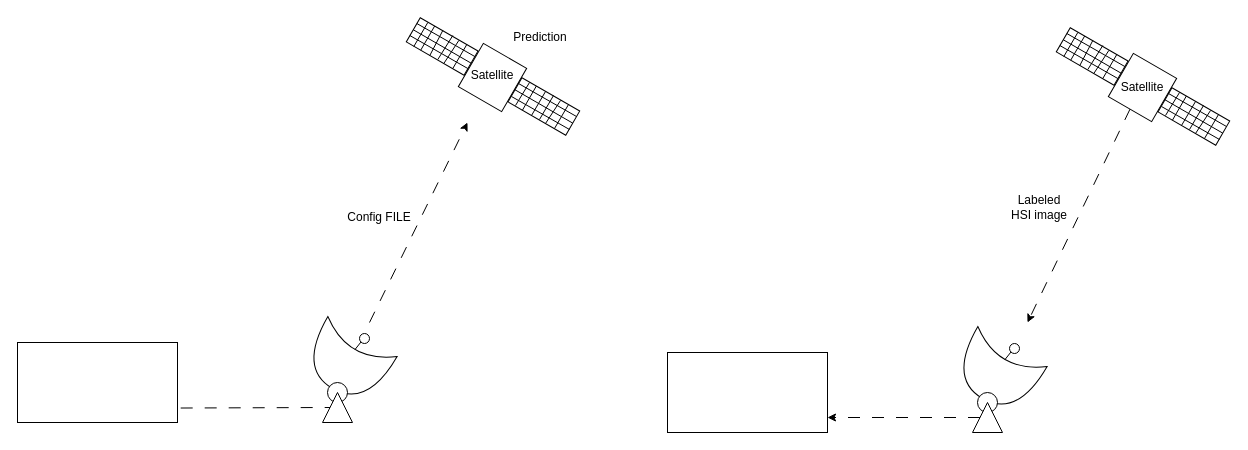
The diagram is 1248 pixels wide and 450 high, and some of its shapes have lost their labels. Here are the shapes that lost their labels. From the top down, the centre of each, then its label:
At point 97,382: "Training".
At point 747,392: "Decoding image".
